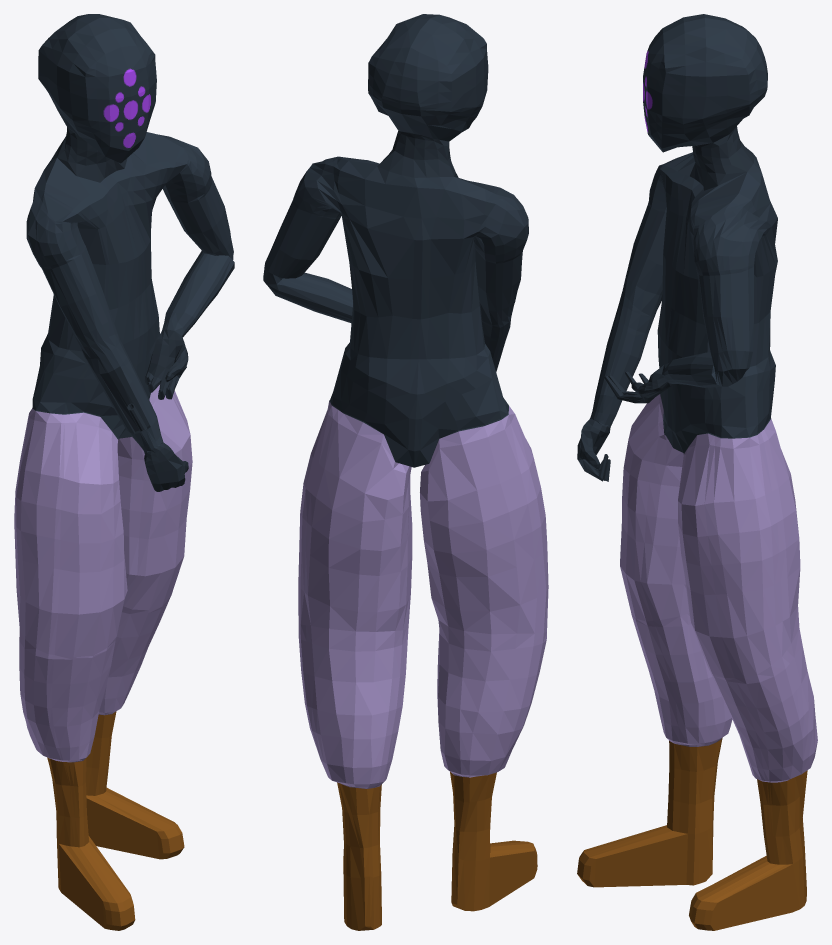
The model's file is Oracle_Reload_000023.obj.
3 renders of one model, left to right at view 1: azimuth 30°, elevation 25°; view 2: azimuth 150°, elevation 25°; view 3: azimuth 270°, elevation 25°, orthographic. The views are drawn at different scales.
Parts seen in each view (by area): view 1: Cube; view 2: Cube; view 3: Cube.
Part boxes in pixels (<box>): Cube: <box>14,14,234,930</box>; Cube: <box>263,14,548,930</box>; Cube: <box>577,14,817,930</box>.
Bounding box in the file's own units: 1.14 × 3.94 × 0.9762.
